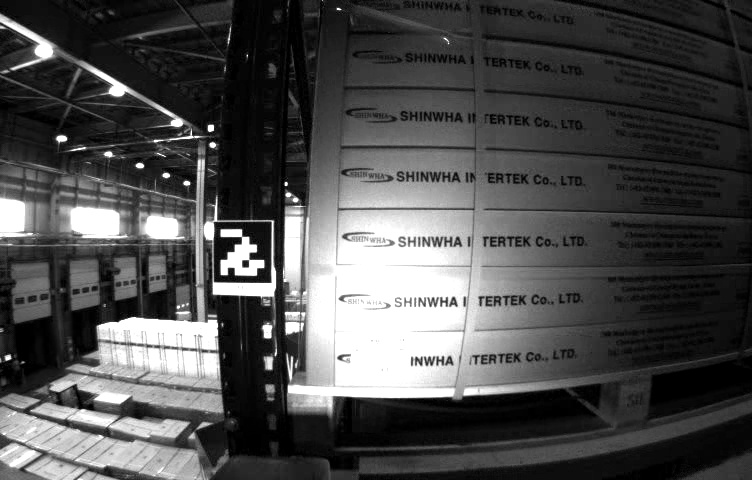True Barcode: (345, 326, 417, 381)
